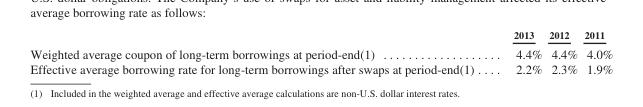table: (29, 28, 612, 76)
table column: (29, 28, 493, 76), (493, 28, 545, 76), (545, 28, 580, 76), (580, 28, 612, 76)
table column header: (29, 28, 612, 43)
table row: (29, 43, 612, 61), (29, 28, 612, 43), (29, 61, 612, 76)
